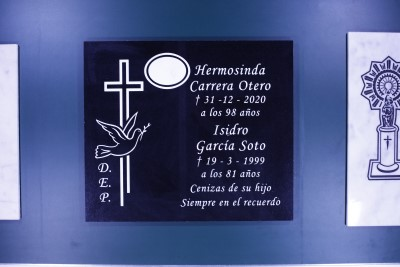lapidas: (83, 40, 293, 222)
